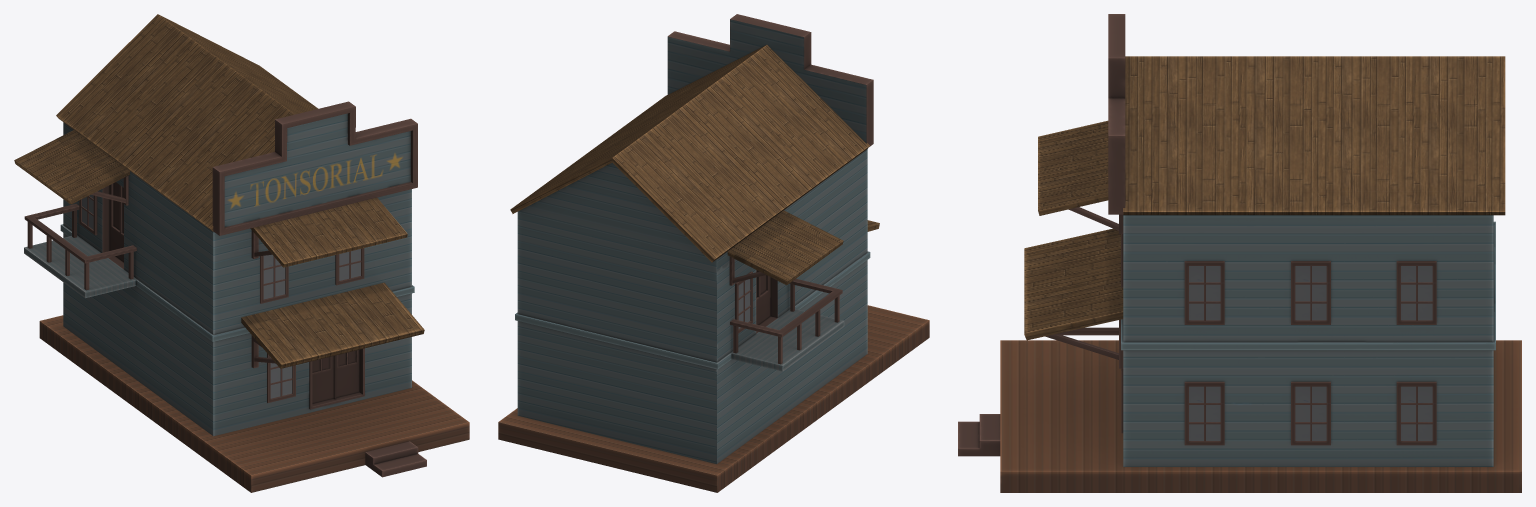
The model's file is Tonsorial3.fbx.
3 views of the same model, side by side, from view 1: azimuth 30°, elevation 25°; view 2: azimuth 150°, elevation 25°; view 3: azimuth 270°, elevation 25° (orthographic). The views are drawn at different scales.
Parts seen in each view (by area): view 1: Building_10; view 2: Building_10; view 3: Building_10.
Part boxes in pixels (x1,y1,x2,y2): Building_10: [14, 14, 469, 492]; Building_10: [498, 14, 929, 492]; Building_10: [958, 14, 1521, 492].
Size of the model in its own units: 222 by 254 by 331.
